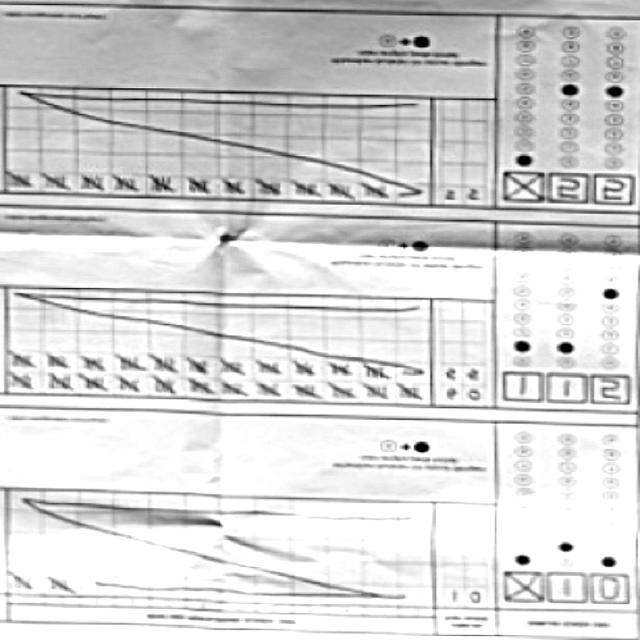Suara: (498, 172, 635, 208), (498, 572, 630, 609), (496, 373, 634, 408)
